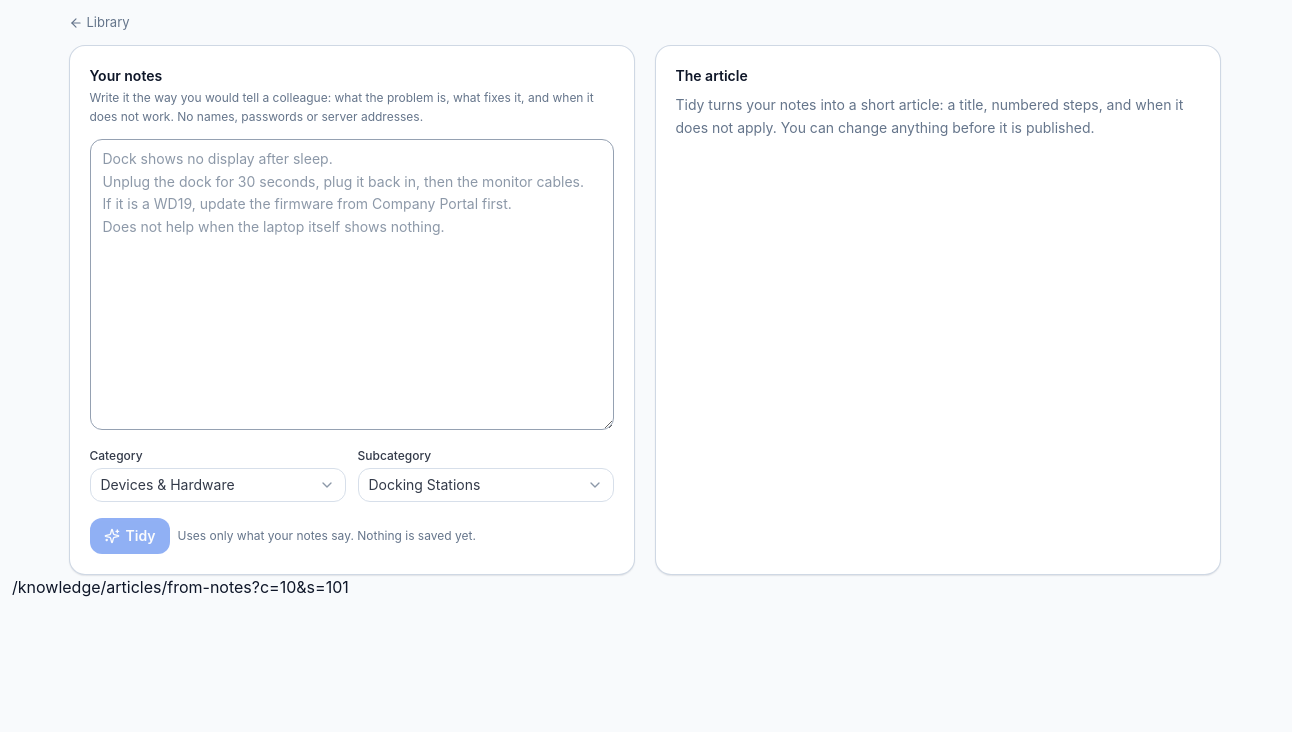
Test case: NotesToArticle › Tidy shows the article beside the notes with what is still missing; a writer continues in the editor with a draft
Check: the button "Tidy" is disabled, box left=90, top=518, right=170, bottom=554
Replace the text in the text box named "What you know" with "Dock shows no display after sleep. Unplug the dock for 30 seconds, then plug it back in.". click: (352, 284)
box: left=90, top=139, right=614, bottom=430
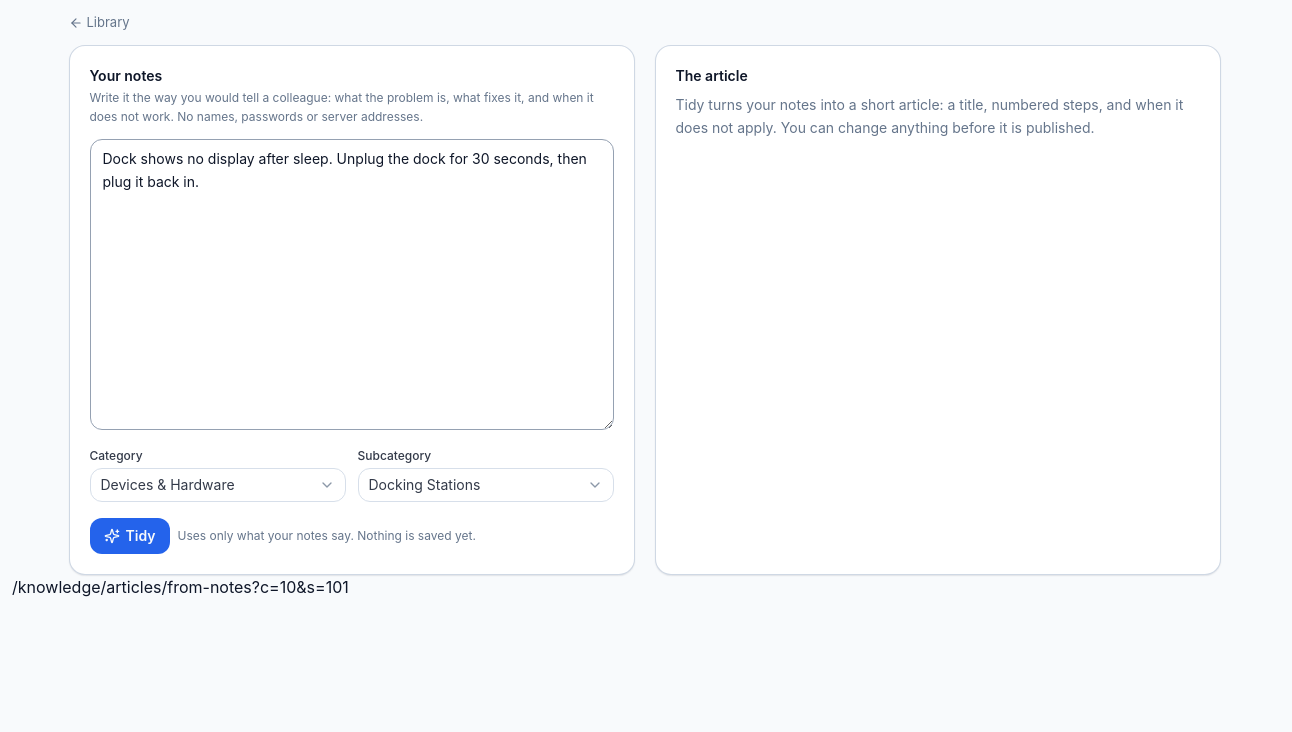
Click the button "Tidy". click: (130, 536)
box: left=90, top=518, right=170, bottom=554
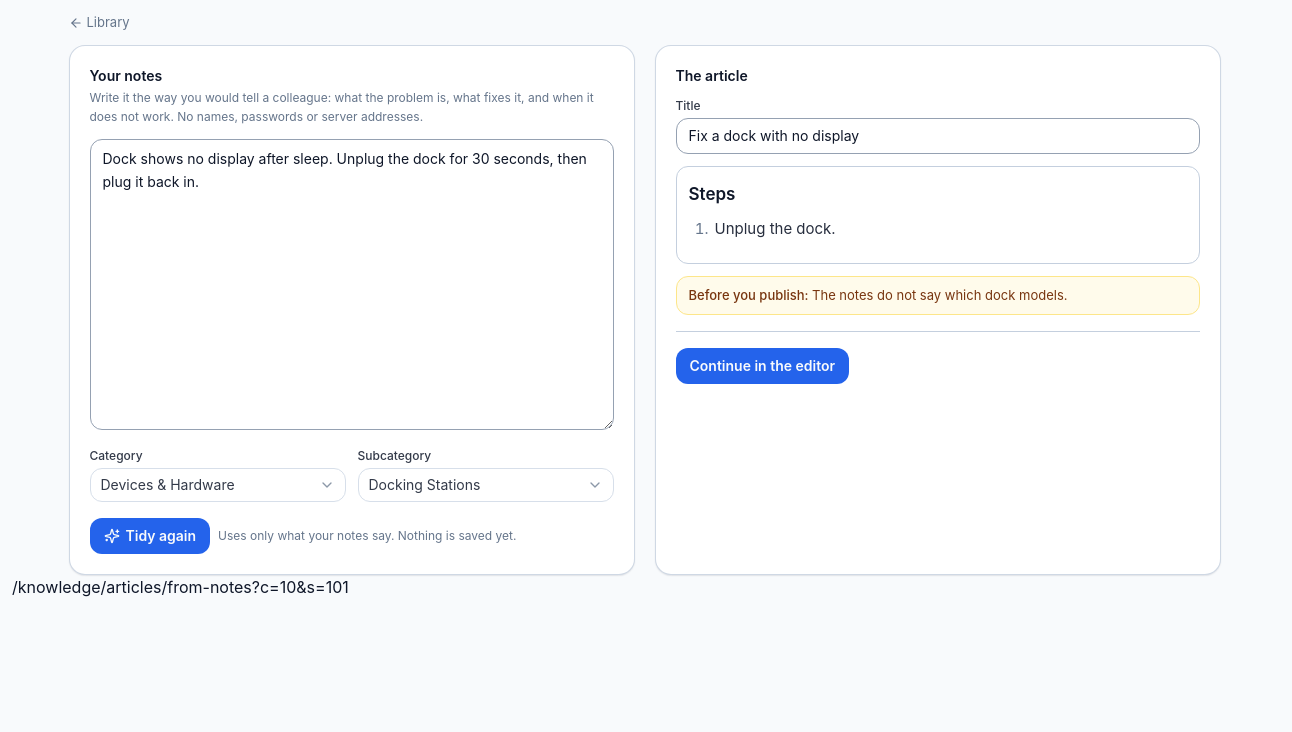
Check: the element with test id "notes-preview" shows "Unplug the dock.", box left=714, top=219, right=836, bottom=238
Check: the element with test id "notes-missing" shows "which dock models", box left=812, top=287, right=1067, bottom=303
Check: the field labelled "Title" holds "Fix a dock with no display", box left=676, top=118, right=1200, bottom=154
Click the button with test id "notes-save". click: (762, 366)
box: left=676, top=348, right=849, bottom=384
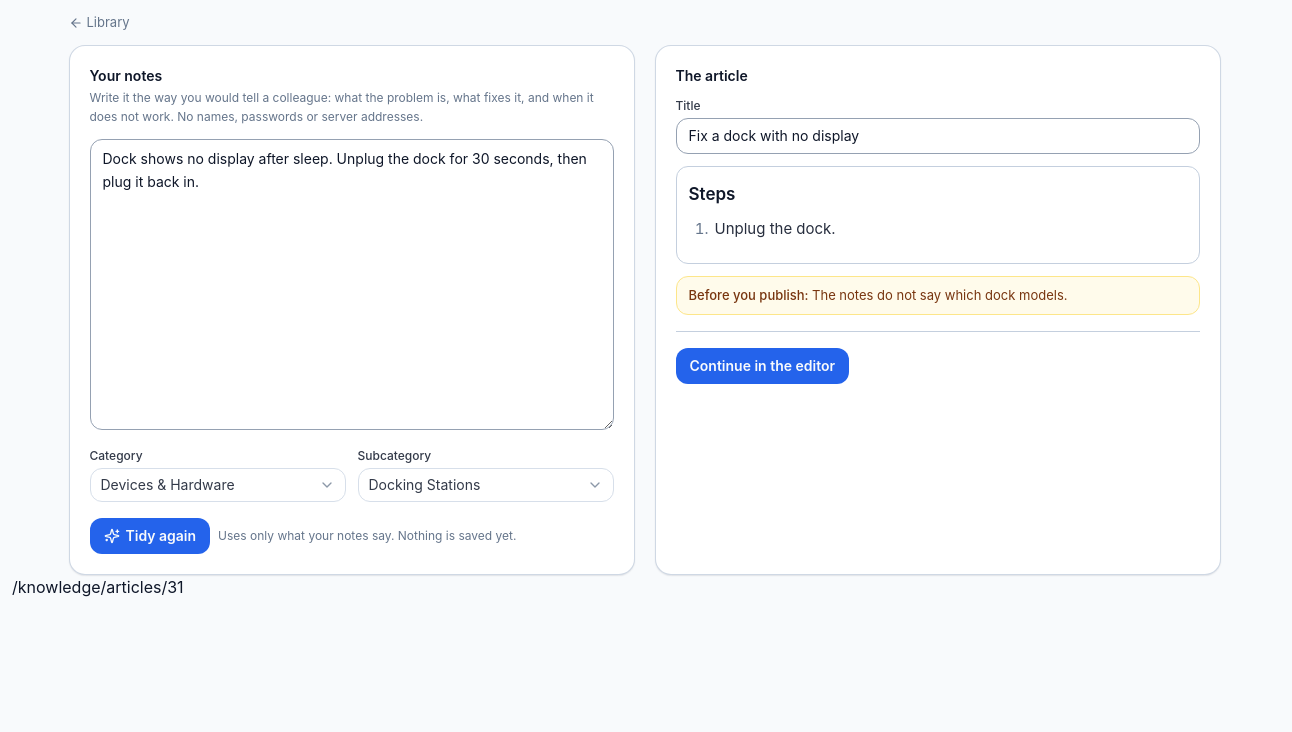
Check: the text with test id "where" reads "/knowledge/articles/31", box left=12, top=577, right=184, bottom=597
